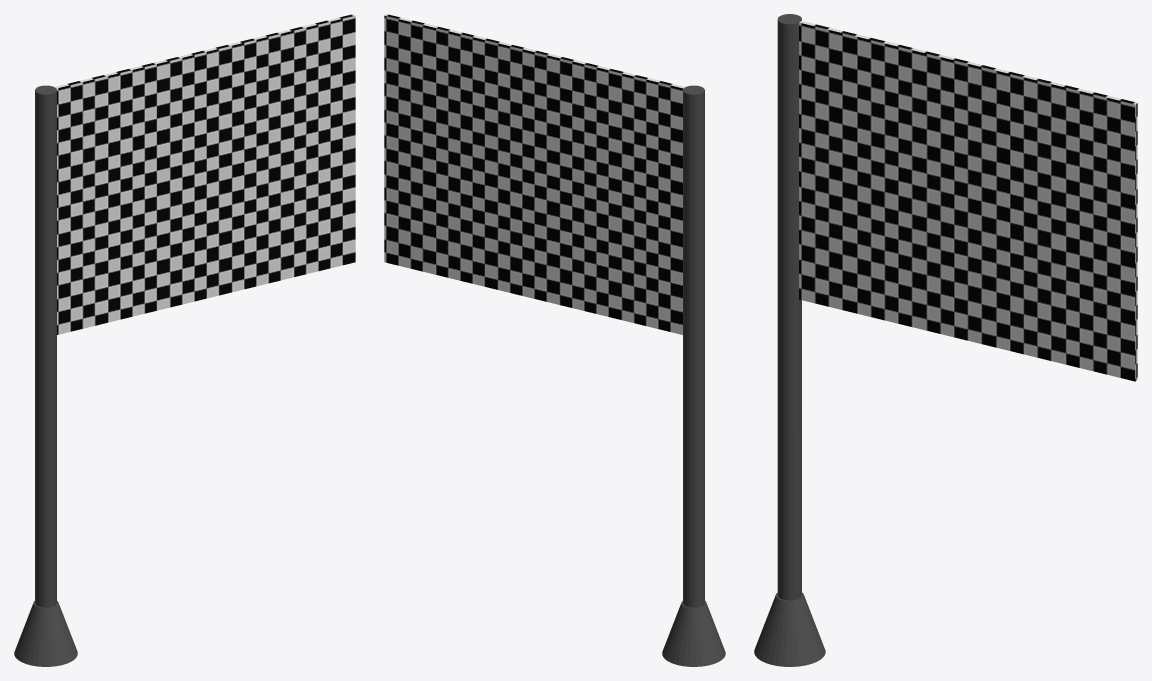
The model's file is goal.obj.
The picture shows the model from 3 angles, left to right: view 1: azimuth 30°, elevation 25°; view 2: azimuth 150°, elevation 25°; view 3: azimuth 330°, elevation 25°; orthographic projection. The views are drawn at different scales.
Visible parts, largest first — view 1: Cylinder; view 2: Cylinder; view 3: Cylinder.
Boxes of the visible parts, bbox=[...] form: Cylinder: bbox=[14, 14, 355, 666]; Cylinder: bbox=[384, 14, 725, 666]; Cylinder: bbox=[754, 14, 1137, 666].
Size of the model in its own units: 7.13 by 11.42 by 1.17.
1 material, 1 textured.
